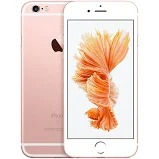iphone: (60, 1, 140, 159)
iphone6: (61, 1, 141, 159)
